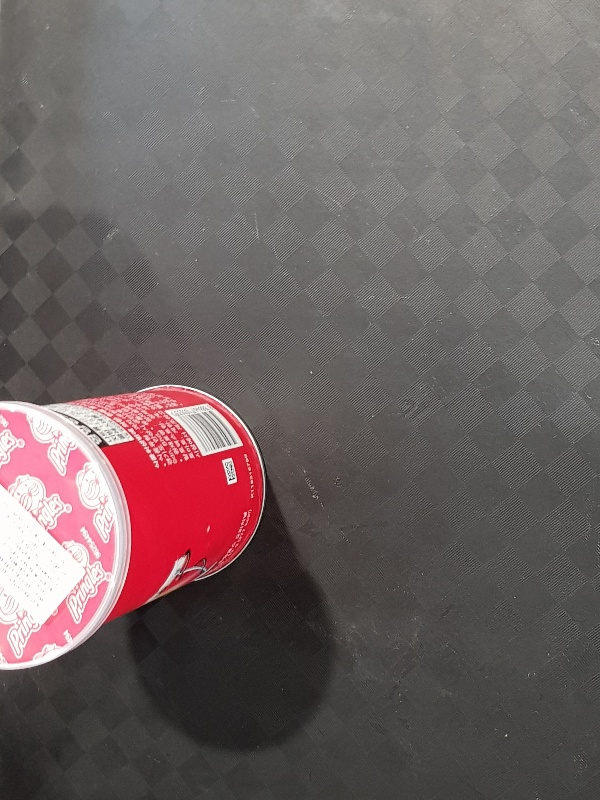Pringles Original: (1, 382, 266, 670)
